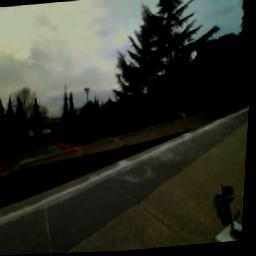herb: (213, 184, 246, 233)
